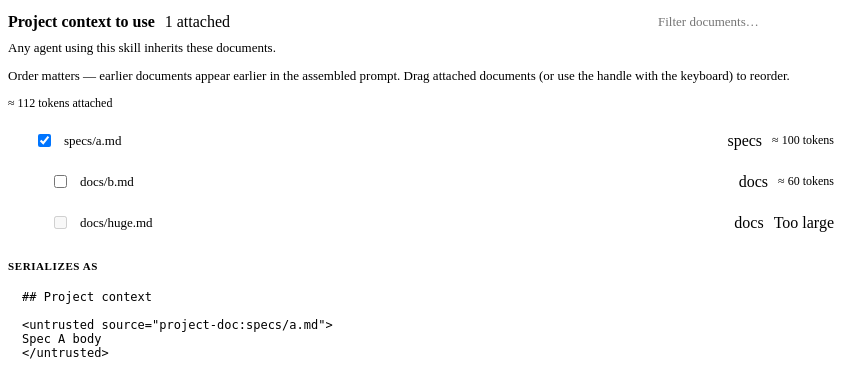
Test: SkillContextTab › AC-15/AC-25: toggling saves immediately with the ordered path list and shows the server's new total and block
Click the checkbox named "Attach docs/b.md to this skill" at (60,182), box [54, 175, 67, 188]
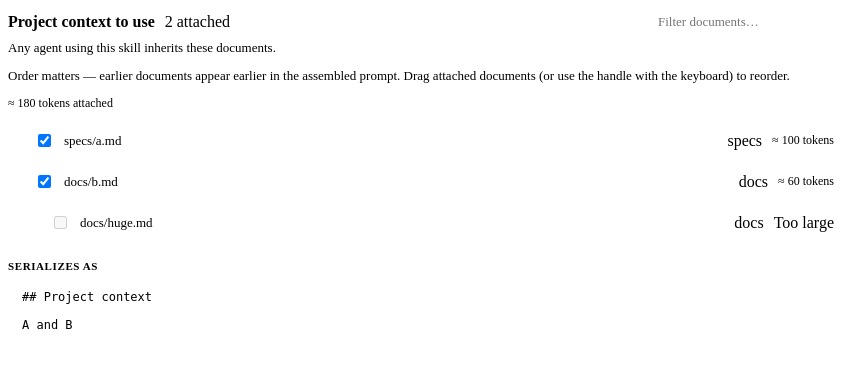
Expected: the text "≈ 180 tokens attached" is shown, [8, 96, 113, 110]
